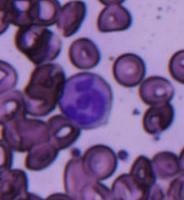N: (58, 71, 113, 130)
